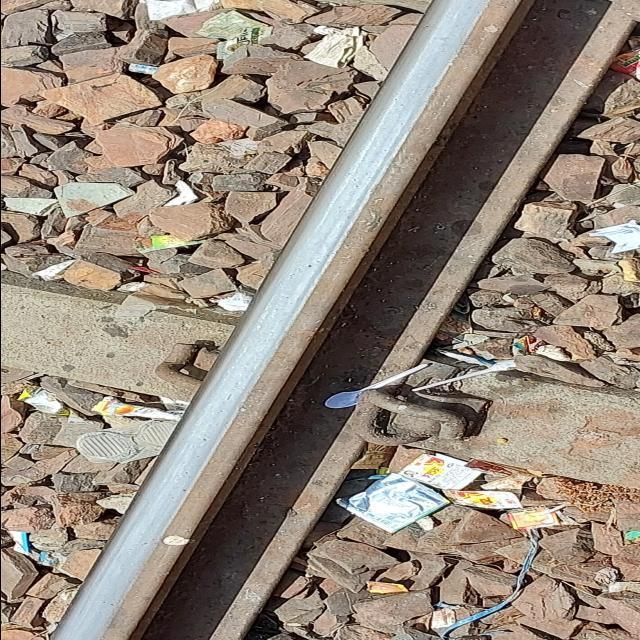head_checks_low: (300, 263, 316, 269), (199, 438, 209, 442), (179, 489, 186, 492)
